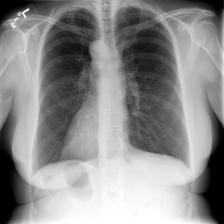normal: (23, 5, 198, 190)
